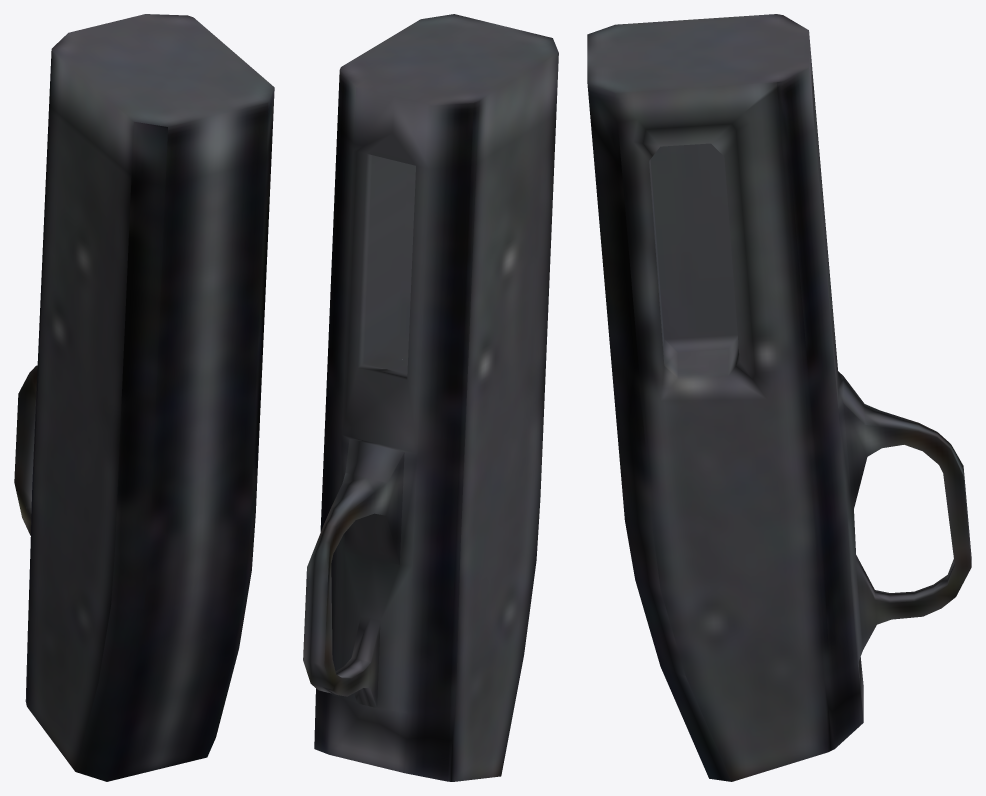
The model's file is Shotgun_PSX_Chasis.fbx.
3 views of the same model, side by side, from view 1: azimuth 30°, elevation 25°; view 2: azimuth 150°, elevation 25°; view 3: azimuth 270°, elevation 25° (orthographic).
Parts seen in each view (by area): view 1: Chasis; view 2: Chasis; view 3: Chasis.
Part boxes in pixels (left/top/right/bottom): Chasis: left=14, top=14, right=274, bottom=781; Chasis: left=303, top=14, right=558, bottom=781; Chasis: left=587, top=14, right=971, bottom=781.
Bounding box in the file's own units: 42.32 × 204 × 101.
